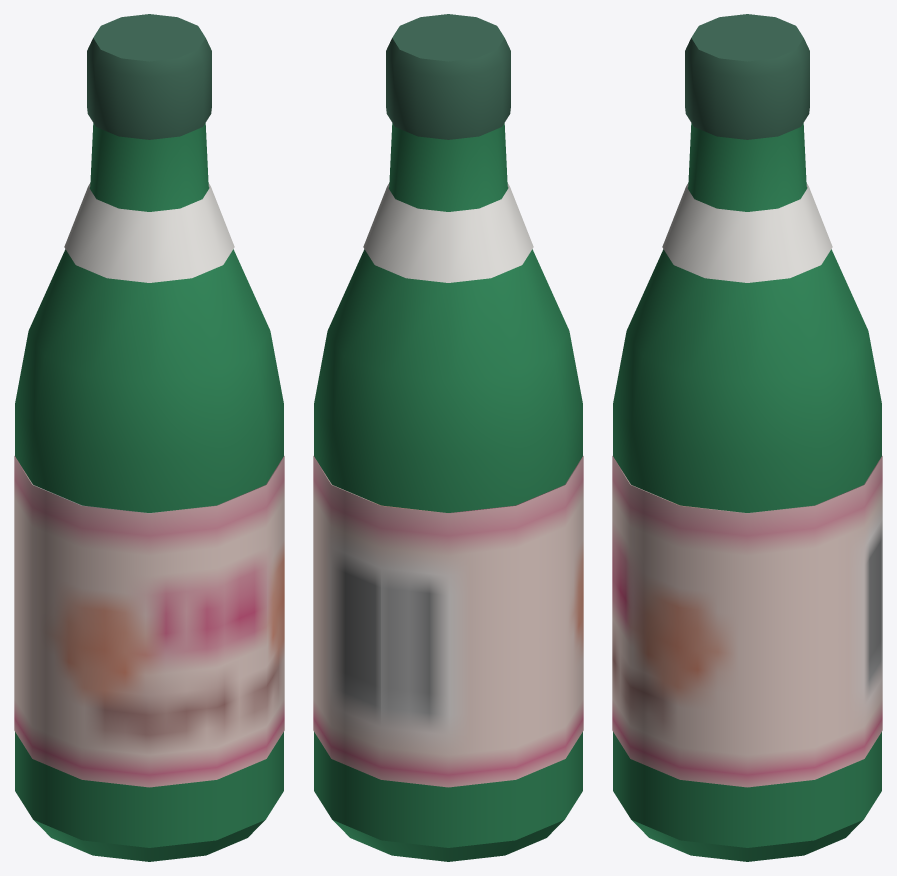
Rendered from SC_Prod_Soju_Bottle_Grapefruit.gltf.
3 renders of one model, left to right at view 1: azimuth 30°, elevation 25°; view 2: azimuth 150°, elevation 25°; view 3: azimuth 270°, elevation 25°, orthographic.
Visible parts, largest first — view 1: SC_Prod_Soju_Bottle_Grapefruit; view 2: SC_Prod_Soju_Bottle_Grapefruit; view 3: SC_Prod_Soju_Bottle_Grapefruit.
Part boxes in pixels (x1,y1,x2,y2): SC_Prod_Soju_Bottle_Grapefruit: (14, 14, 284, 861); SC_Prod_Soju_Bottle_Grapefruit: (313, 14, 583, 861); SC_Prod_Soju_Bottle_Grapefruit: (612, 14, 882, 861).
Size of the model in its own units: 0.0644 by 0.204 by 0.0644.
2 materials, 2 textured.
